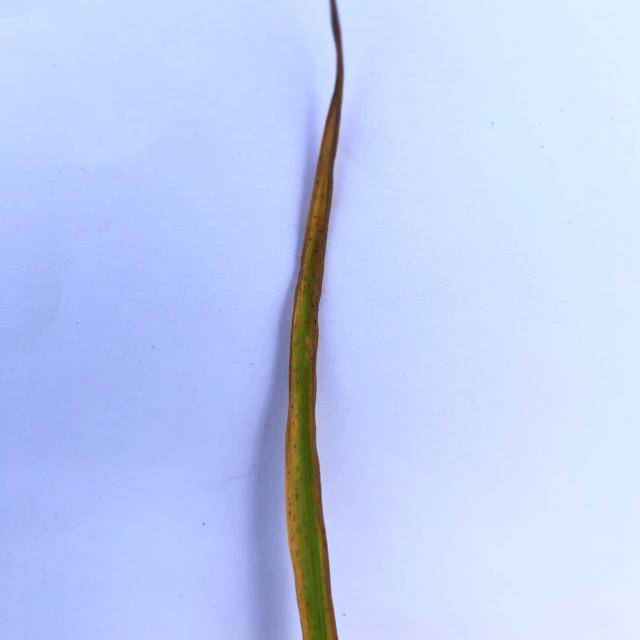tungro: (278, 89, 358, 636)
